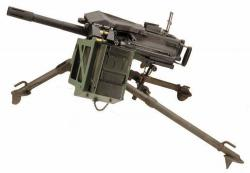rifle: (3, 3, 247, 161)
